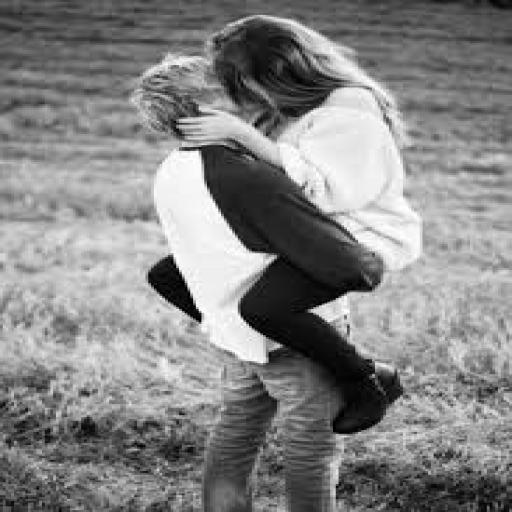hugging: (129, 13, 428, 510)
